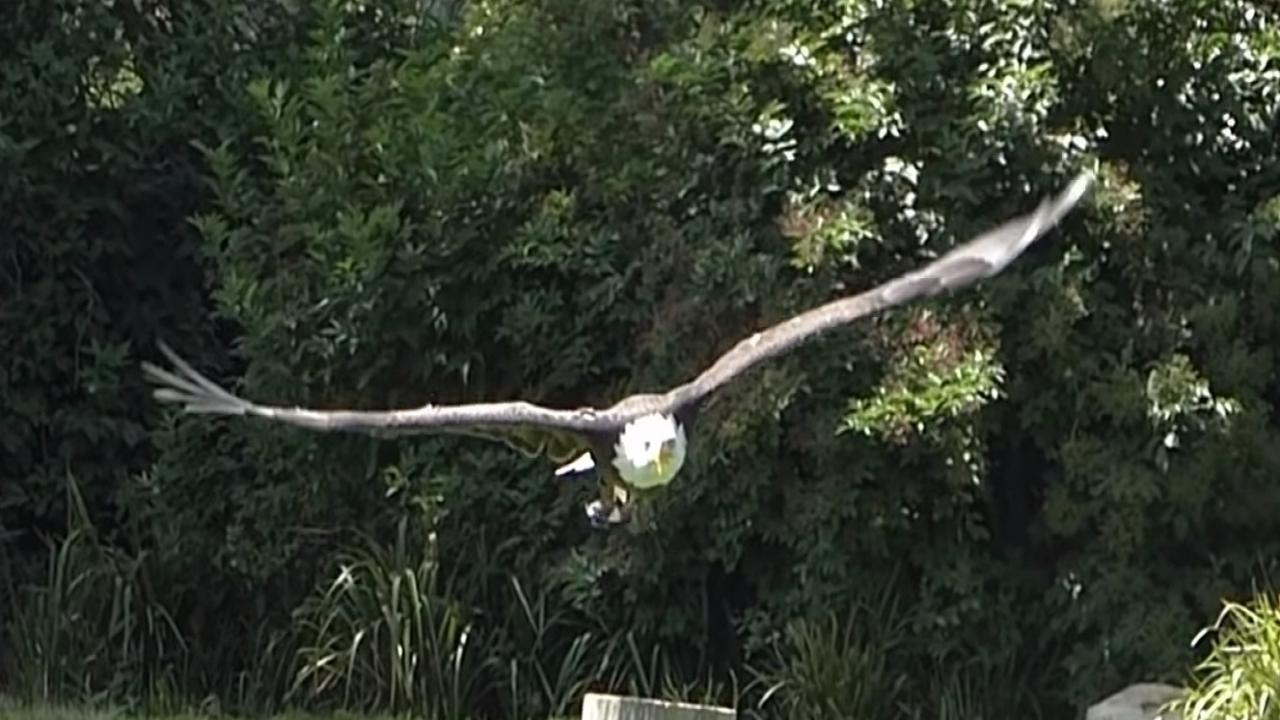Bird: (120, 139, 1115, 508)
